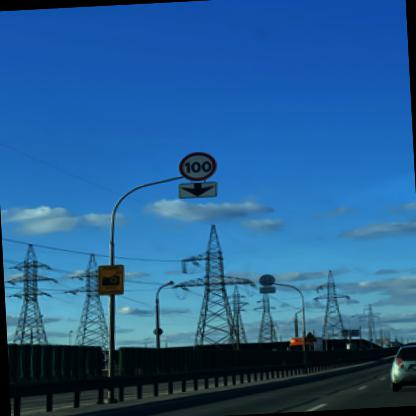speedlimit: (176, 150, 215, 180)
